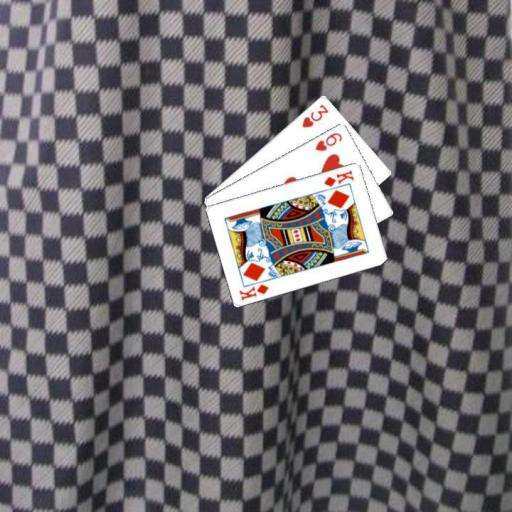3H: (299, 101, 330, 129)
6H: (312, 129, 344, 152)
KD: (321, 166, 356, 188), (236, 281, 270, 301)
